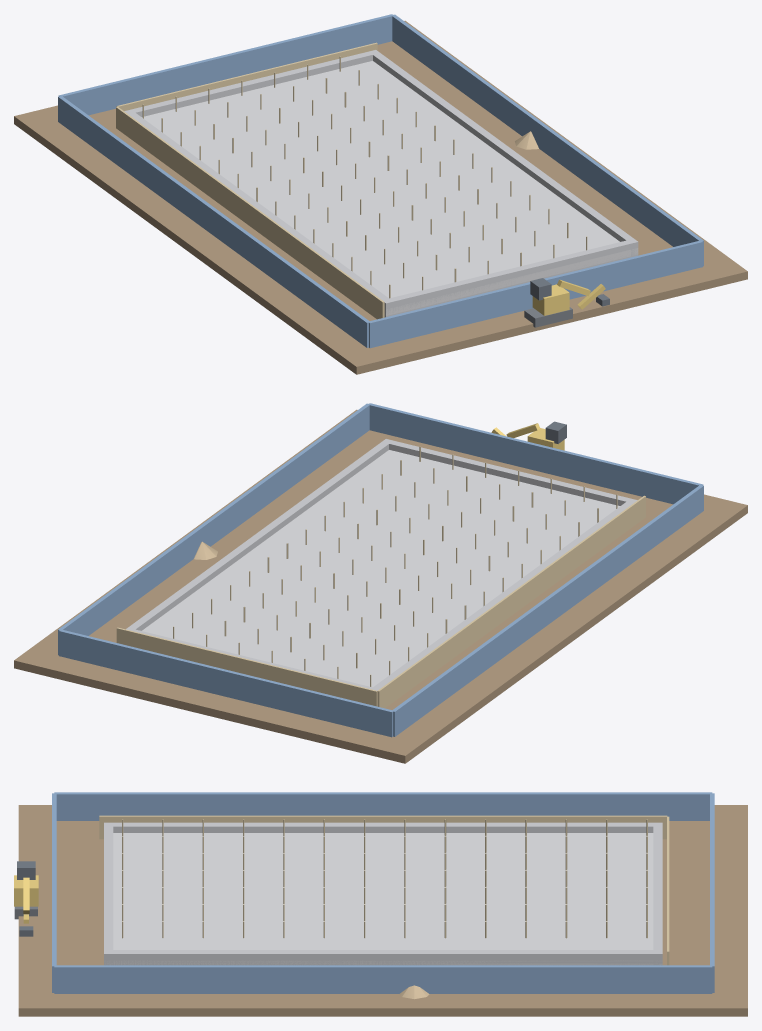
The model's file is num-4-site.glb.
3 views of the same model, one above another, from view 1: azimuth 30°, elevation 25°; view 2: azimuth 150°, elevation 25°; view 3: azimuth 270°, elevation 25° (orthographic). The views are drawn at different scales.
Size of the model in its own units: 31 by 3.4 by 47.3.
